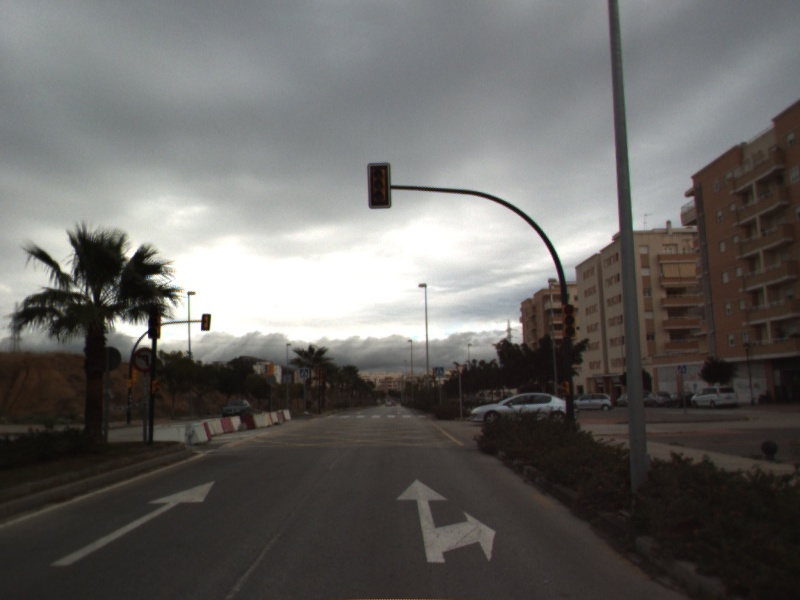STRAIGHT: (48, 479, 217, 568)
STRAIGHT_RIGHT: (394, 477, 498, 565)
